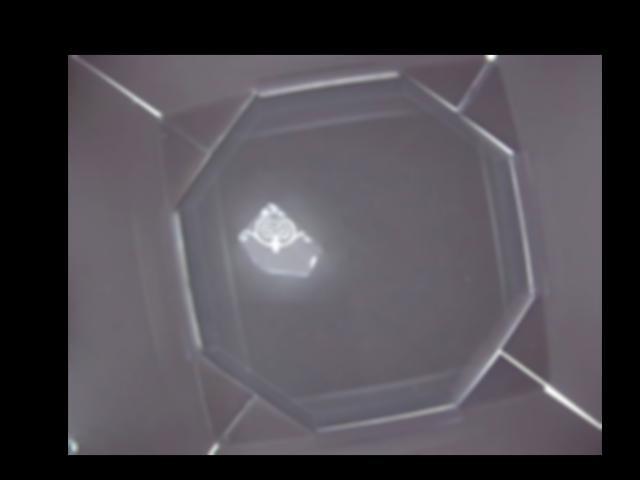China: (240, 204, 319, 281)
